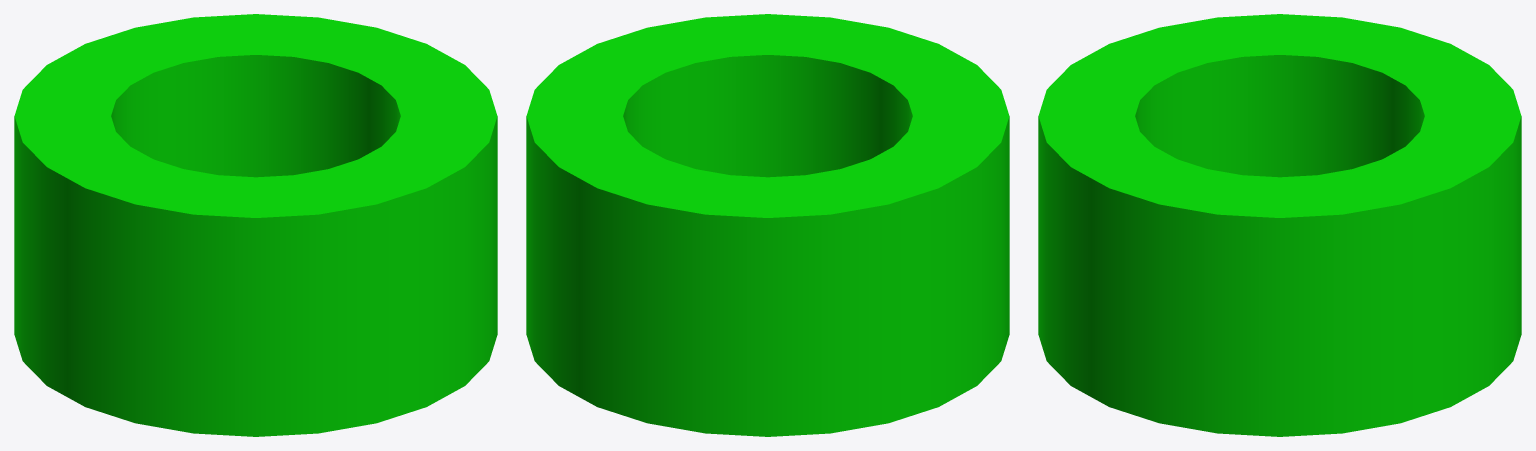
The model's file is Pipe_Edge.fbx.
3 renders of one model, left to right at view 1: azimuth 30°, elevation 25°; view 2: azimuth 150°, elevation 25°; view 3: azimuth 270°, elevation 25°, orthographic.
Parts seen in each view (by area): view 1: pCylinder9; view 2: pCylinder9; view 3: pCylinder9.
Boxes of the visible parts, x1,y1,x2,y2 form: pCylinder9: (14,14,497,436); pCylinder9: (526,14,1009,436); pCylinder9: (1038,14,1521,436).
Bounding box in the file's own units: 1 × 0.5 × 1.
